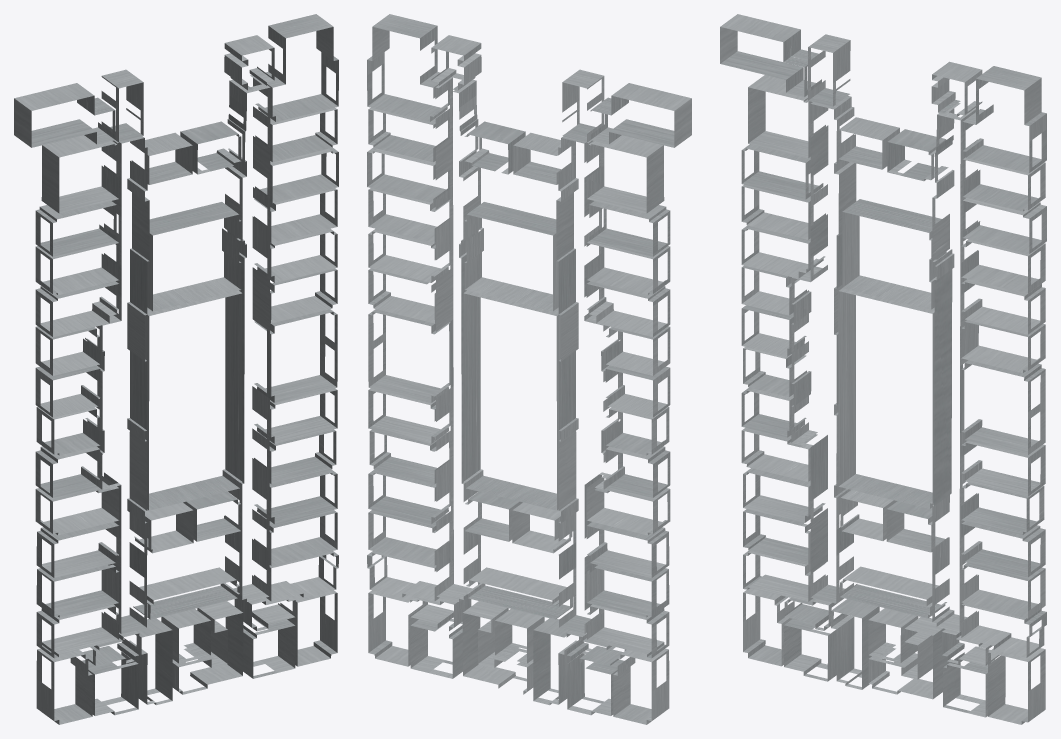
The model's file is wall.obj.
3 renders of one model, left to right at view 1: azimuth 30°, elevation 25°; view 2: azimuth 150°, elevation 25°; view 3: azimuth 330°, elevation 25°, orthographic.
Visible parts, largest first — view 1: area1_wall; view 2: area1_wall; view 3: area1_wall.
Part boxes in pixels (x1,y1,x2,y2): area1_wall: (14, 14, 338, 724); area1_wall: (367, 14, 691, 724); area1_wall: (720, 14, 1046, 724).
Bounding box in the file's own units: 24.4 × 48.2 × 2.4.
Materials: 1 (1 with a texture image).
